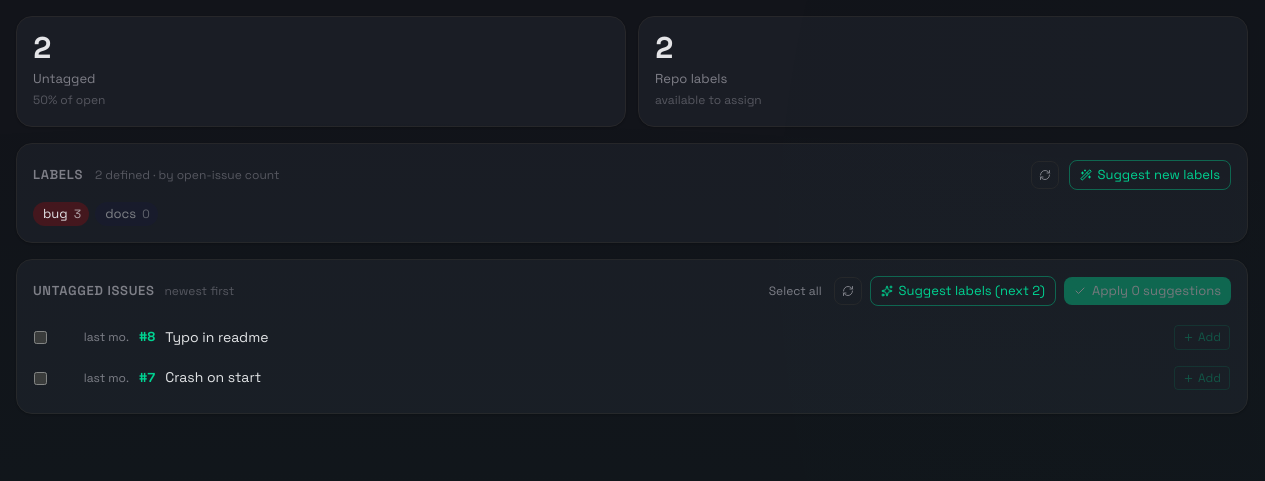
Test: TaggingView › surfaces a generate failure rather than failing silently
Expected: the text "Crash on start" is shown, 165,368 -> 261,386
Click the button "Suggest labels (next 2)".
click(963, 291)  # box 870,276 -> 1056,306
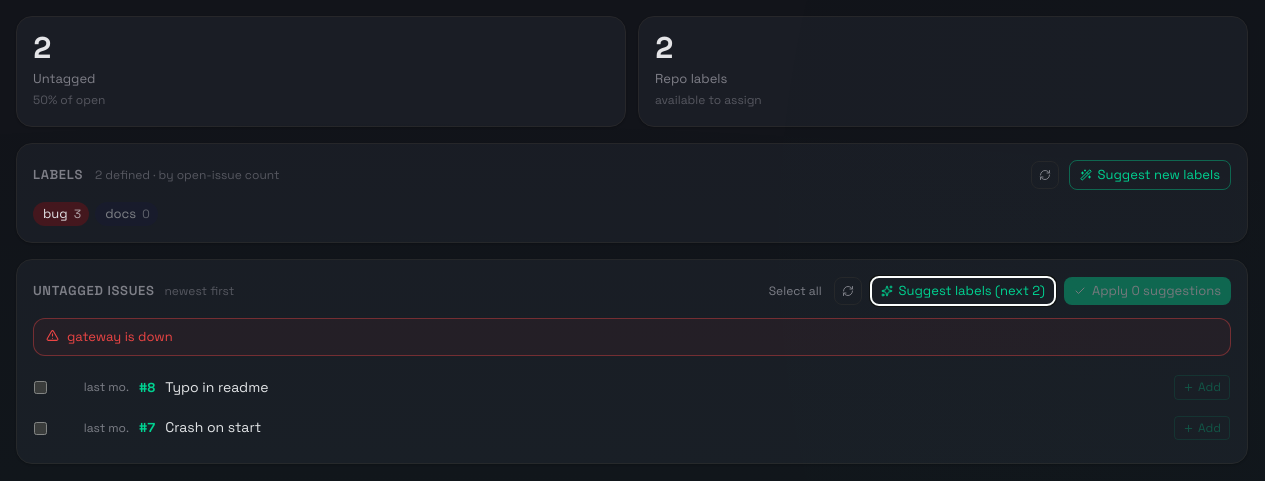
Result: the text "gateway is down" is shown at 67,327 -> 173,347
